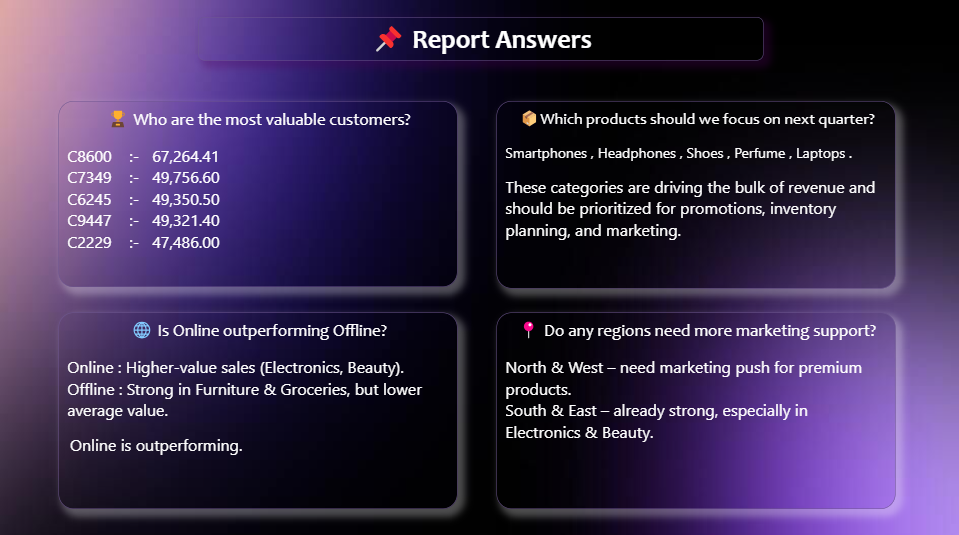

The dashboard page shown, as its layout file describes it:
{"tool":"powerbi","page":{"name":"Report Answers","canvas":[1280,720],"ordinal":3},"visuals":[{"type":"textbox","title":"📌 Report Answers","box":[264,24,754,58],"z":0},{"type":"textbox","title":"🏆  Who are the most valuable customers?","box":[78,136,532,248],"z":1000},{"type":"textbox","title":"📦Which products should we focus on next quarter?","box":[662,136,532,250],"z":2000},{"type":"textbox","title":"🌐 Is Online outperforming Offline?","box":[78,418,532,262],"z":3000},{"type":"textbox","title":"📍 Do any regions need more marketing support?","box":[662,418,532,262],"z":4000}]}

Visuals, with their boxes in screenshot pixels (x1, y1, x2, y2), scaled from the page's 1280x720 canvas onto the 959x535 screenshot:
"📌 Report Answers" textbox: bbox(198, 18, 763, 61)
"🏆  Who are the most valuable customers?" textbox: bbox(58, 101, 457, 285)
"📦Which products should we focus on next quarter?" textbox: bbox(496, 101, 895, 287)
"🌐 Is Online outperforming Offline?" textbox: bbox(58, 311, 457, 505)
"📍 Do any regions need more marketing support?" textbox: bbox(496, 311, 895, 505)
